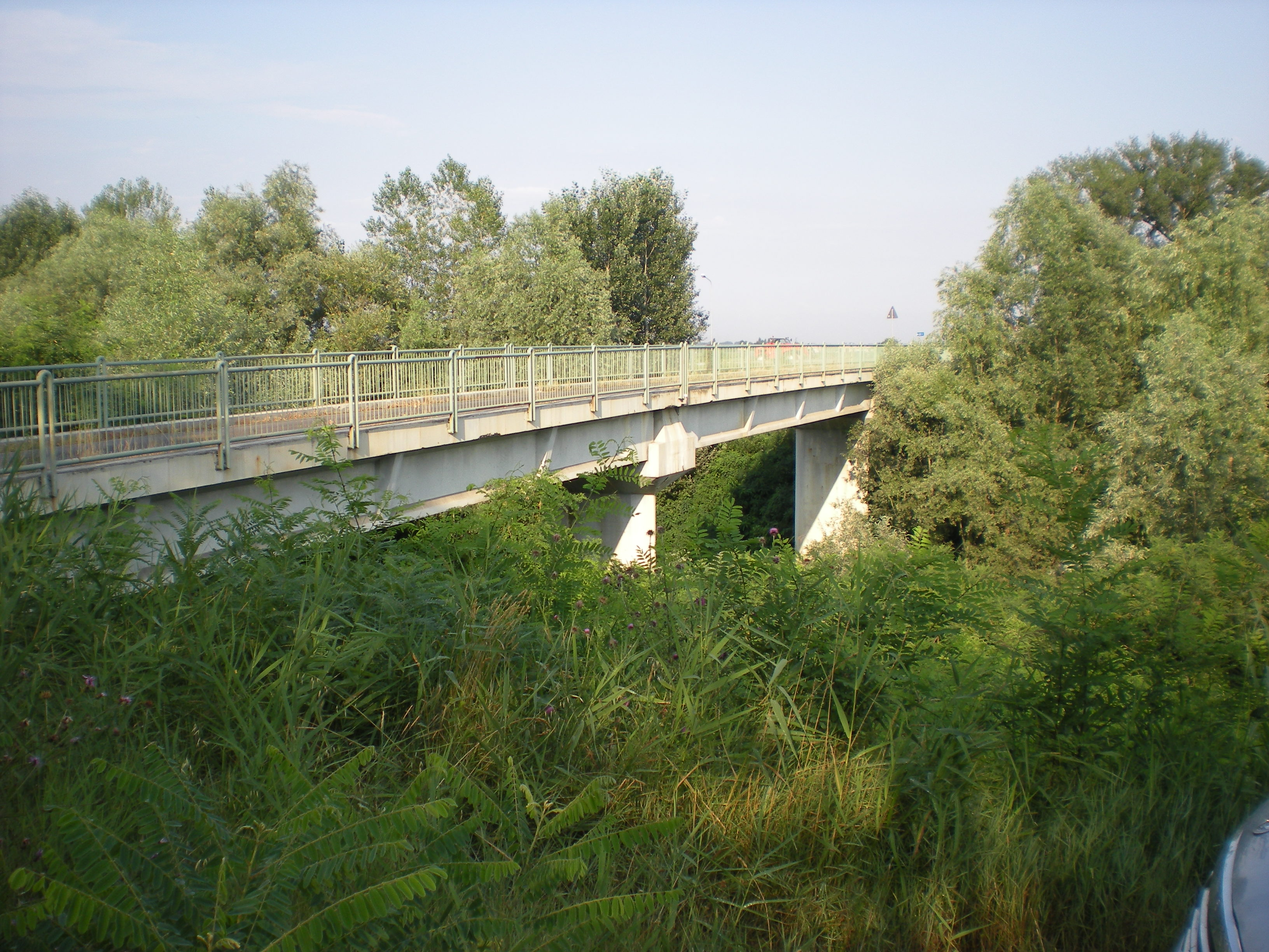Spalling: (479, 431, 502, 439), (664, 403, 680, 411), (659, 476, 673, 485)
